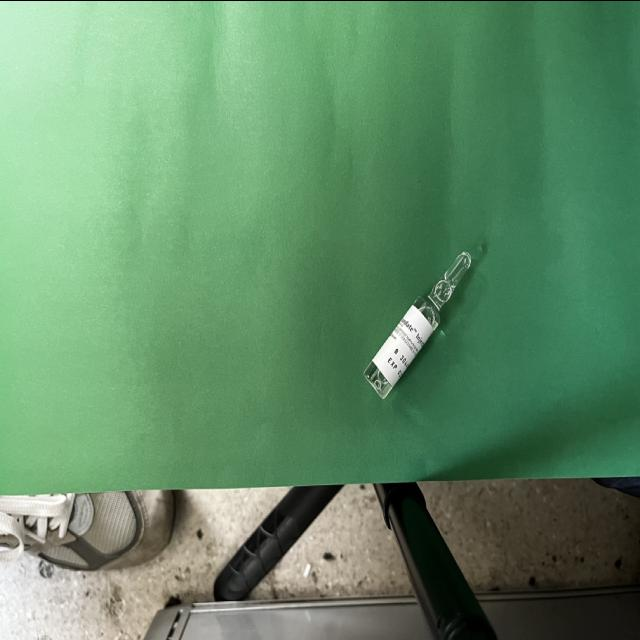Ampoules: (364, 250, 472, 398)
